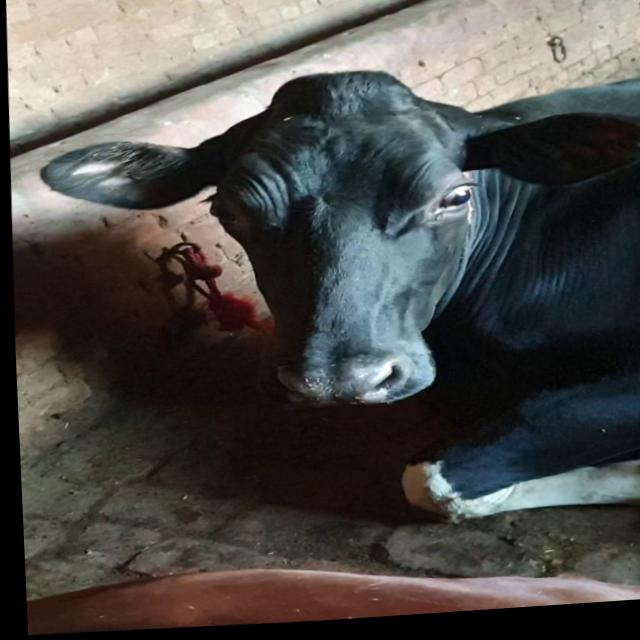cowFace: (185, 56, 490, 423)
